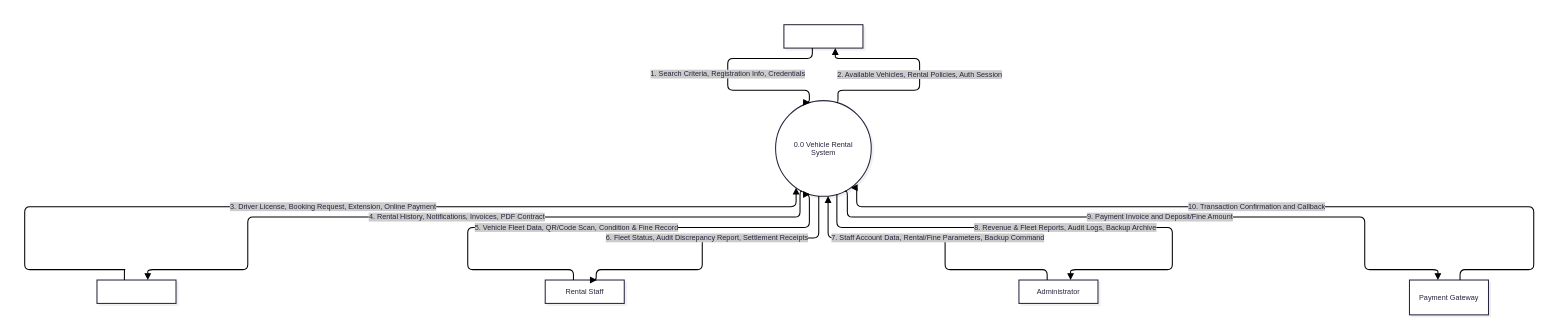
Some shapes in this 1548 by 326 pixel diagram are drawn without their labels. The centre of each missing label's shape, as x and y in pixels:
Customer: the point at 137,292
Guest: the point at 824,37
